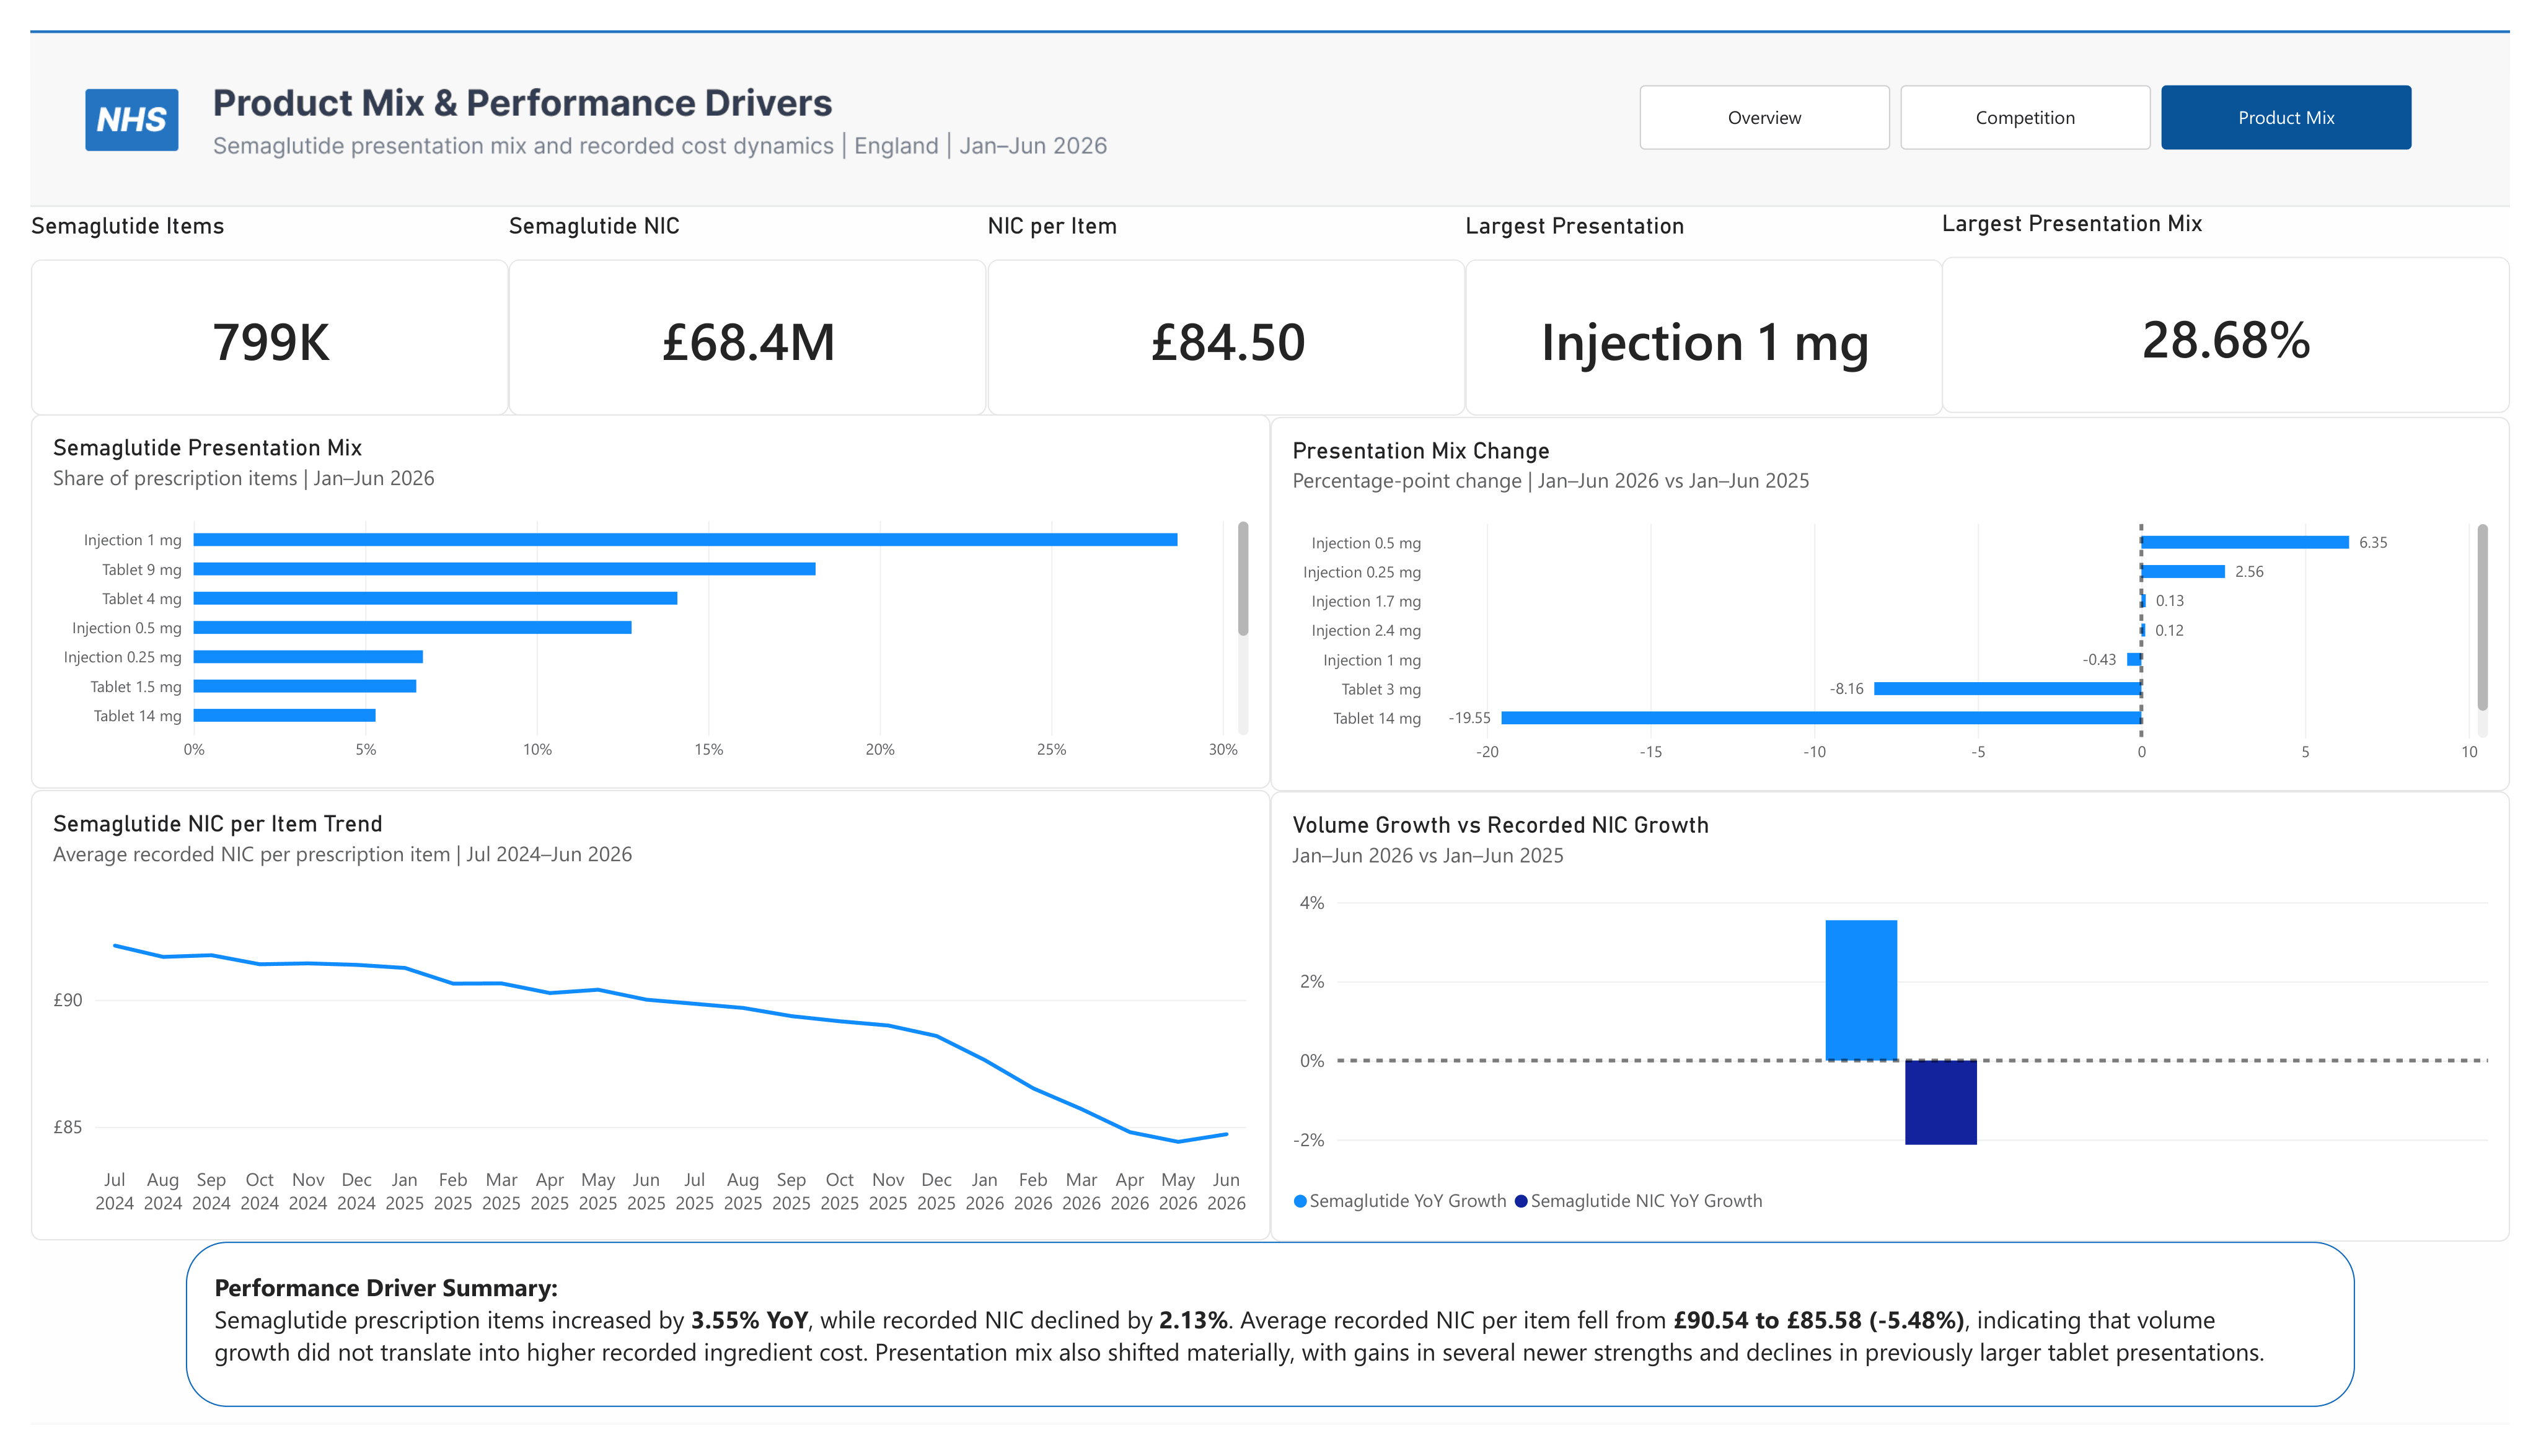

This screenshot's page, from the dashboard's own definition file:
{"tool":"powerbi","page":{"name":"Product Mix","canvas":[1920,1080],"ordinal":2},"visuals":[{"type":"cardVisual","title":"Semaglutide Items","fields":{"Data":["Measure_Table.Semaglutide Items"]},"box":[0,140,370,158],"z":0},{"type":"shape","box":[120,938,1680,128],"z":0,"group":"g1"},{"type":"cardVisual","title":"Semaglutide NIC","fields":{"Data":["Measure_Table.Semaglutide NIC"]},"box":[370.4,139.8,370,158],"z":1000},{"type":"textbox","box":[142,960,1592,86],"z":1000,"group":"g1"},{"type":"cardVisual","title":"Semaglutide NIC per Item","fields":{"Data":["Measure_Table.Semaglutide NIC per Item"]},"box":[740.8,139.8,370,158],"z":2000},{"type":"cardVisual","title":"Largest Presentation","fields":{"Data":["Measure_Table.Largest Presentation"]},"box":[1111.2,139.8,370,158],"z":3000},{"type":"cardVisual","title":"Largest Presentation Mix","fields":{"Data":["Measure_Table.Largest Presentation Mix %"]},"box":[1480,138,440,158],"z":4000},{"type":"clusteredBarChart","title":"Semaglutide Presentation Mix","fields":{"Category":["Dim_Presentation.PresentationGroup"],"Y":["Measure_Table.Presentation Mix %"]},"box":[0,296.7,960,290],"z":5000},{"type":"clusteredBarChart","title":"Presentation Mix Change","fields":{"Category":["Dim_Presentation.PresentationGroup"],"Y":["Measure_Table.Mix Change (pp)"]},"box":[960,298.6,960,290],"z":6000},{"type":"lineChart","title":"Semaglutide NIC per Item Trend","fields":{"Category":["Dim_Calendar.MonthYear"],"Y":["Measure_Table.Semaglutide NIC per Item"]},"box":[0,587.7,960,349.6],"z":7000},{"type":"group","id":"g1","title":"Group 1","box":[120,938,1680,128],"z":8000},{"type":"clusteredColumnChart","title":"Volume Growth vs Recorded NIC Growth","fields":{"Y":["Measure_Table.Semaglutide YoY Growth","Measure_Table.Semaglutide NIC YoY Growth"]},"box":[960,589,960,349],"z":9000},{"type":"pageNavigator","box":[1246,42,600,50],"z":9001}]}

Visuals, with their boxes on the page's 1920x1080 design canvas (x1, y1, x2, y2). These are canvas units, not pixel positions in the 2541x1456 screenshot, which may show the page scaled, cropped or inside an application window:
"Semaglutide Items" cardVisual: [left=0, top=140, right=370, bottom=298]
shape: [left=120, top=938, right=1800, bottom=1066]
"Semaglutide NIC" cardVisual: [left=370, top=140, right=740, bottom=298]
textbox: [left=142, top=960, right=1734, bottom=1046]
"Semaglutide NIC per Item" cardVisual: [left=741, top=140, right=1111, bottom=298]
"Largest Presentation" cardVisual: [left=1111, top=140, right=1481, bottom=298]
"Largest Presentation Mix" cardVisual: [left=1480, top=138, right=1920, bottom=296]
"Semaglutide Presentation Mix" clusteredBarChart: [left=0, top=297, right=960, bottom=587]
"Presentation Mix Change" clusteredBarChart: [left=960, top=299, right=1920, bottom=589]
"Semaglutide NIC per Item Trend" lineChart: [left=0, top=588, right=960, bottom=937]
"Group 1" group: [left=120, top=938, right=1800, bottom=1066]
"Volume Growth vs Recorded NIC Growth" clusteredColumnChart: [left=960, top=589, right=1920, bottom=938]
pageNavigator: [left=1246, top=42, right=1846, bottom=92]
